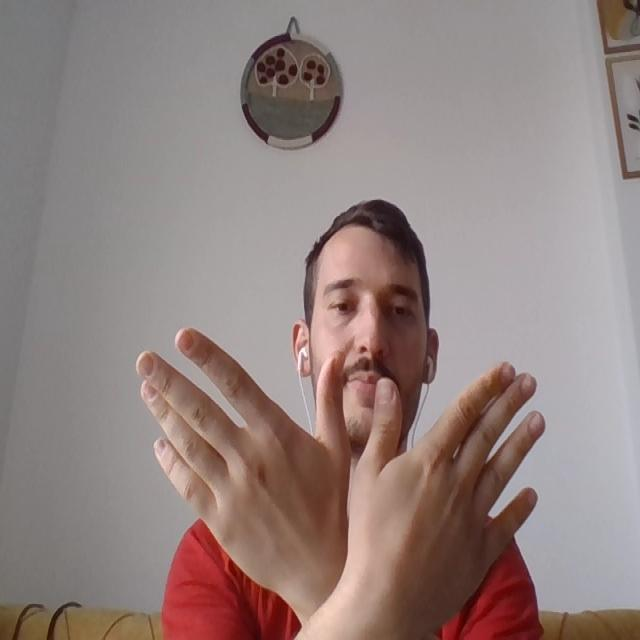thanks: (184, 361, 518, 598)
